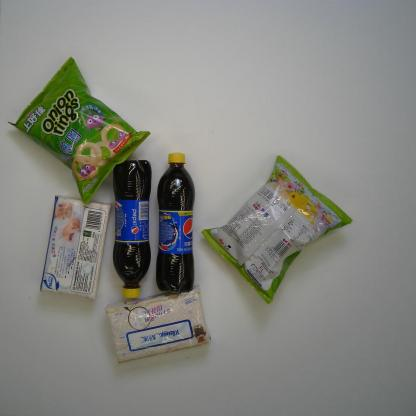Drink: (154, 152, 197, 296), (111, 158, 154, 299)
Puffed Food: (199, 154, 353, 305), (7, 56, 152, 207)
Tissue: (104, 285, 212, 365), (39, 193, 112, 301)
